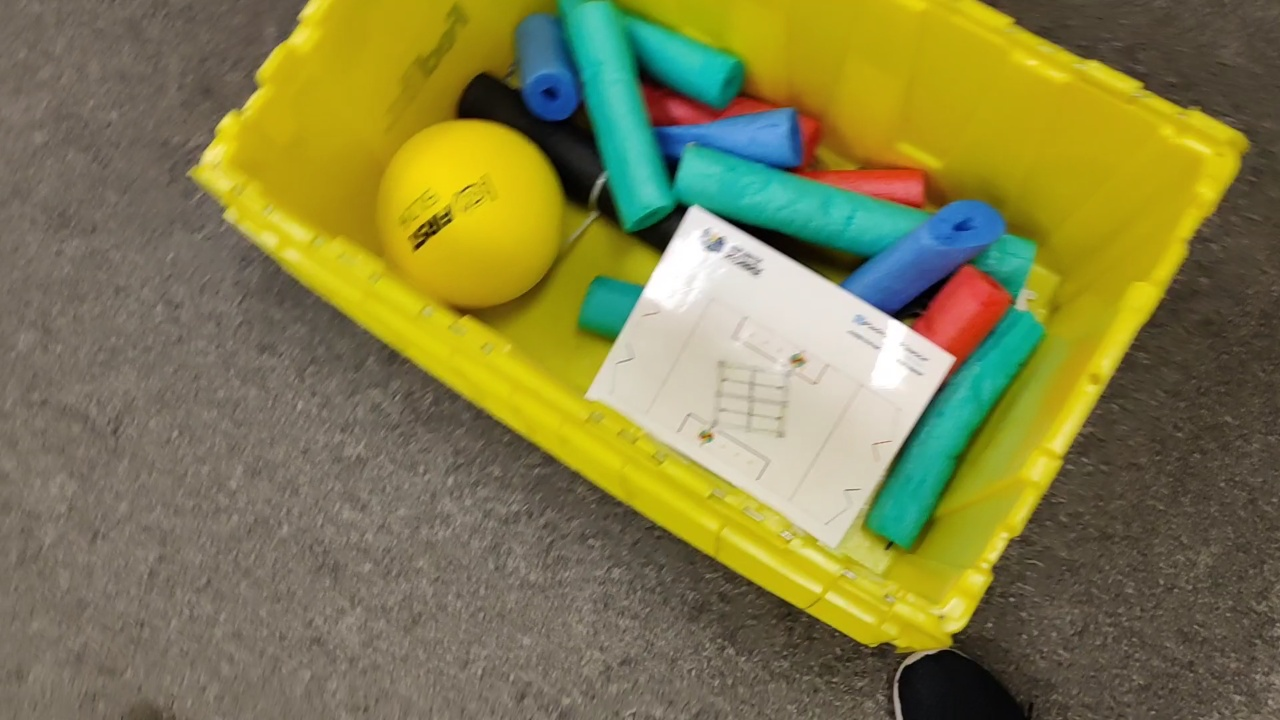Ball: (378, 124, 564, 307)
